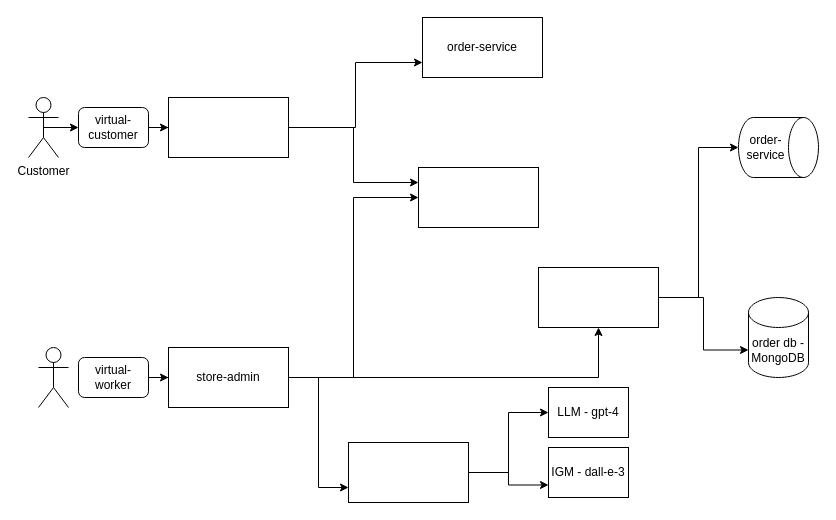
This 836x520 diagram has some shape labels left out. The shapes that lost their labels are listed below. From the top down, each one's centre as x and y in pixels, then its label:
At point (228, 127): "store-front".
At point (478, 197): "product-service".
At point (53, 377): "Store Worker".
At point (408, 472): "ai-service".
